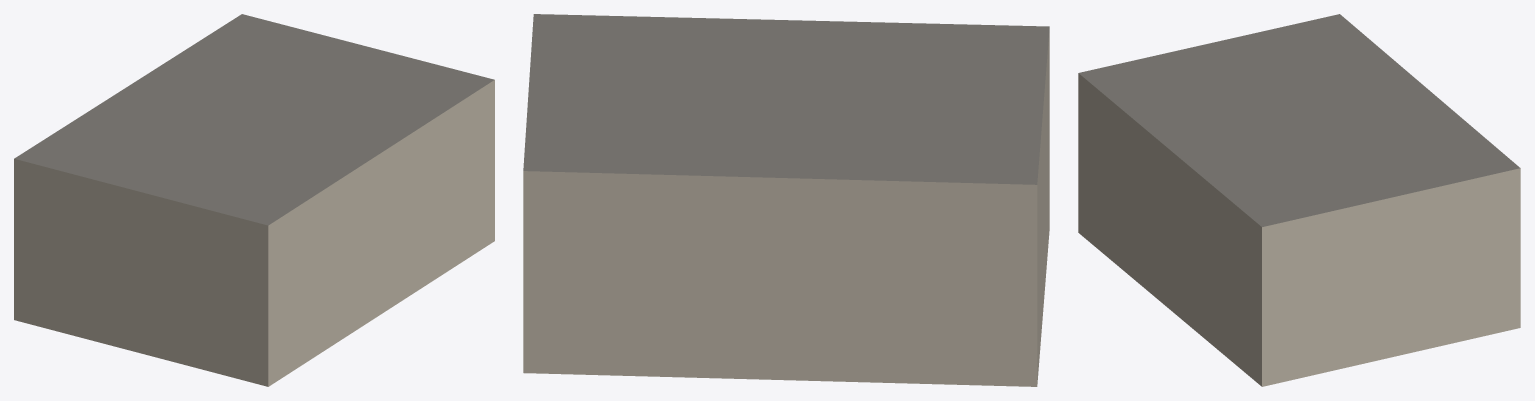
The picture shows the model from 3 angles, left to right: view 1: azimuth 30°, elevation 25°; view 2: azimuth 150°, elevation 25°; view 3: azimuth 270°, elevation 25°; orthographic projection. The views are drawn at different scales.
Parts seen in each view (by area): view 1: HP-w505633447; view 2: HP-w505633447; view 3: HP-w505633447.
Part boxes in pixels (left/top/right/bottom): HP-w505633447: left=14, top=14, right=494, bottom=386; HP-w505633447: left=523, top=14, right=1049, bottom=386; HP-w505633447: left=1078, top=14, right=1520, bottom=386.
Bounding box in the file's own units: 42.94 × 15 × 37.63.
